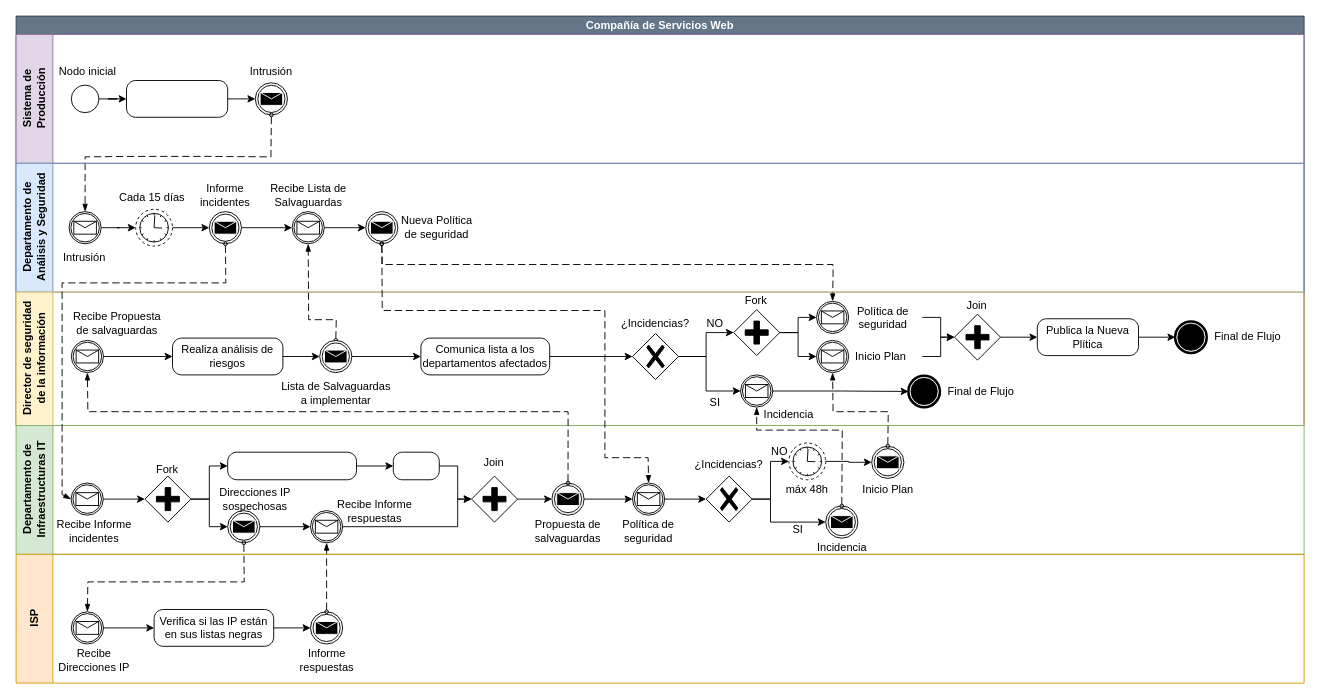
The diagram is 1320 pixels wide and 699 high, and some of its shapes have lost their labels. The centre of each missing label's shape, as x and y in pixels:
"Detectar patrones de intrusión" goes at point (177, 98).
"Evalúa costes" goes at point (415, 465).
"Propone salvaguardas" goes at point (291, 465).
